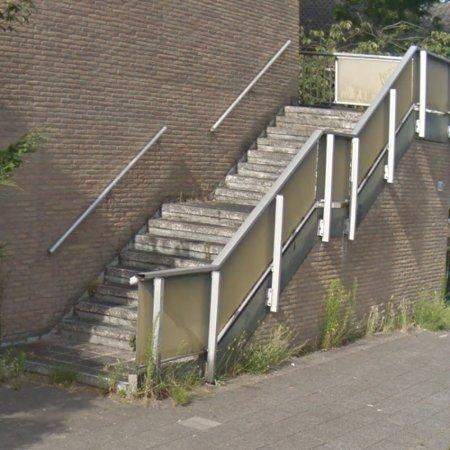stairs: (26, 107, 360, 387)
